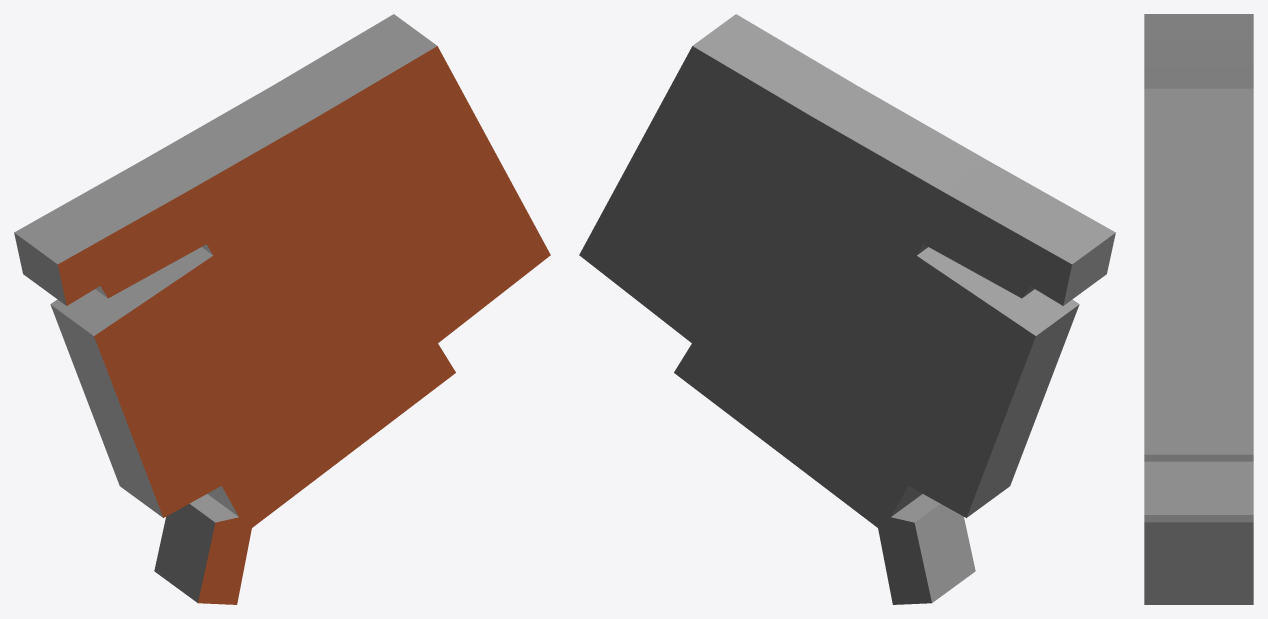
File: construction_1085_assumed_A_Casa_h6m.obj
The picture shows the model from 3 angles, left to right: view 1: azimuth 30°, elevation 25°; view 2: azimuth 150°, elevation 25°; view 3: azimuth 270°, elevation 25°; orthographic projection. The views are drawn at different scales.
Parts seen in each view (by area): view 1: construction_1085_assumed_A_Casa; view 2: construction_1085_assumed_A_Casa; view 3: construction_1085_assumed_A_Casa.
Part boxes in pixels (x1,y1,x2,y2): construction_1085_assumed_A_Casa: (14,14,550,604); construction_1085_assumed_A_Casa: (579,14,1115,604); construction_1085_assumed_A_Casa: (1144,14,1253,604).
Size of the model in its own units: 39.11 by 38.66 by 6.
